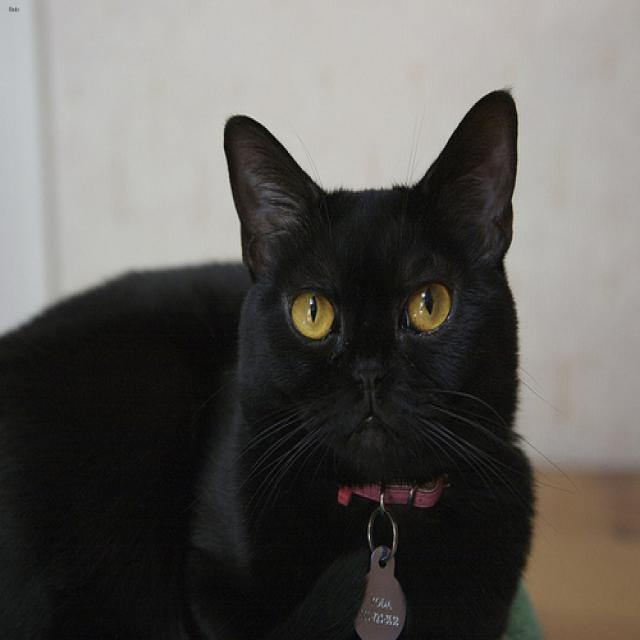Bombay: (223, 88, 516, 477)
